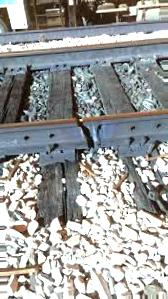tracks_fault: (42, 107, 123, 166)
